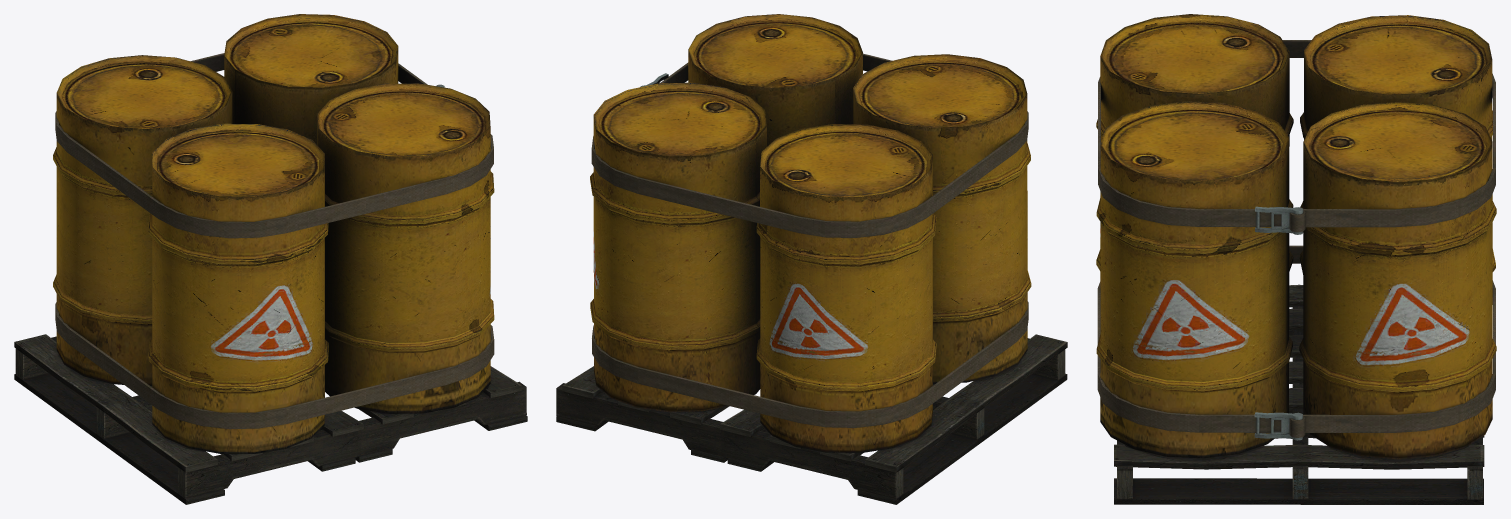
Rendered from barriles.glb.
3 views of the same model, side by side, from view 1: azimuth 30°, elevation 25°; view 2: azimuth 150°, elevation 25°; view 3: azimuth 270°, elevation 25° (orthographic). The views are drawn at different scales.
Visible parts, largest first — view 1: Barriles; view 2: Barriles; view 3: Barriles.
Part boxes in pixels (x1,y1,x2,y2): Barriles: (14, 14, 527, 504); Barriles: (556, 14, 1067, 504); Barriles: (1096, 14, 1496, 504).
Size of the model in its own units: 1.64 by 1.34 by 1.52.
2 materials, 2 textured.
